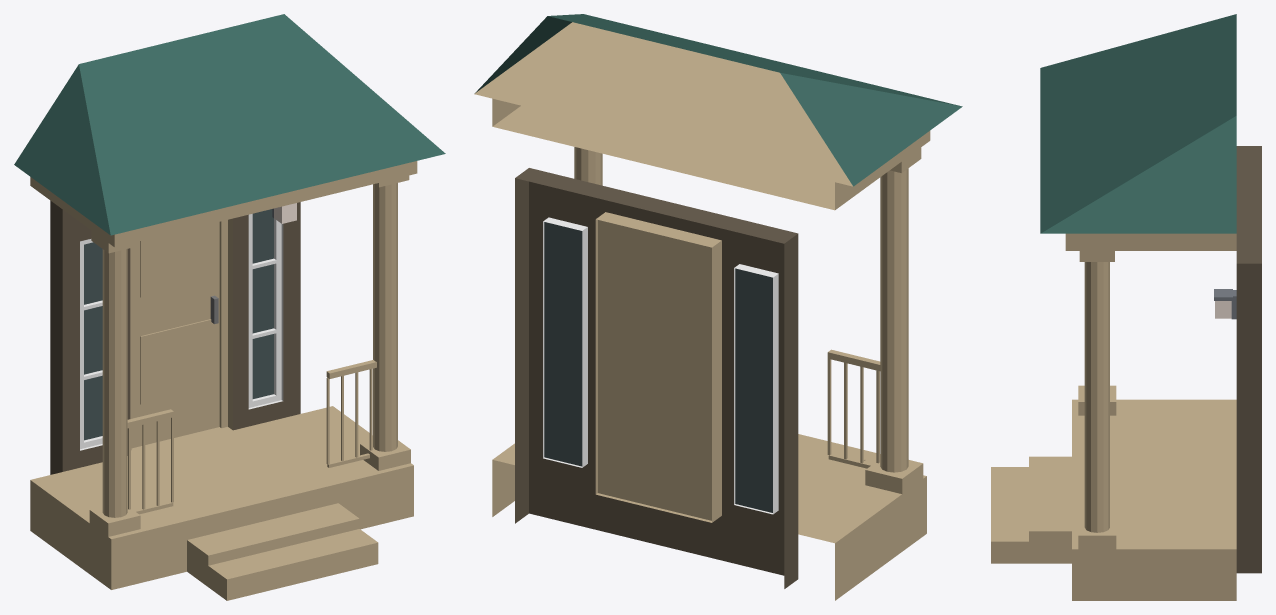
Rendered from entrance_close.fbx.
3 views of the same model, side by side, from view 1: azimuth 30°, elevation 25°; view 2: azimuth 150°, elevation 25°; view 3: azimuth 270°, elevation 25° (orthographic). The views are drawn at different scales.
Visible parts, largest first — view 1: a2015/400/entrance_close; view 2: a2015/400/entrance_close; view 3: a2015/400/entrance_close.
Boxes of the visible parts, box(x1,y1,x2,y2) form: a2015/400/entrance_close: box(14, 14, 445, 600); a2015/400/entrance_close: box(474, 14, 962, 600); a2015/400/entrance_close: box(991, 14, 1261, 600).
Bounding box in the file's own units: 3.1 × 4.02 × 2.14.
